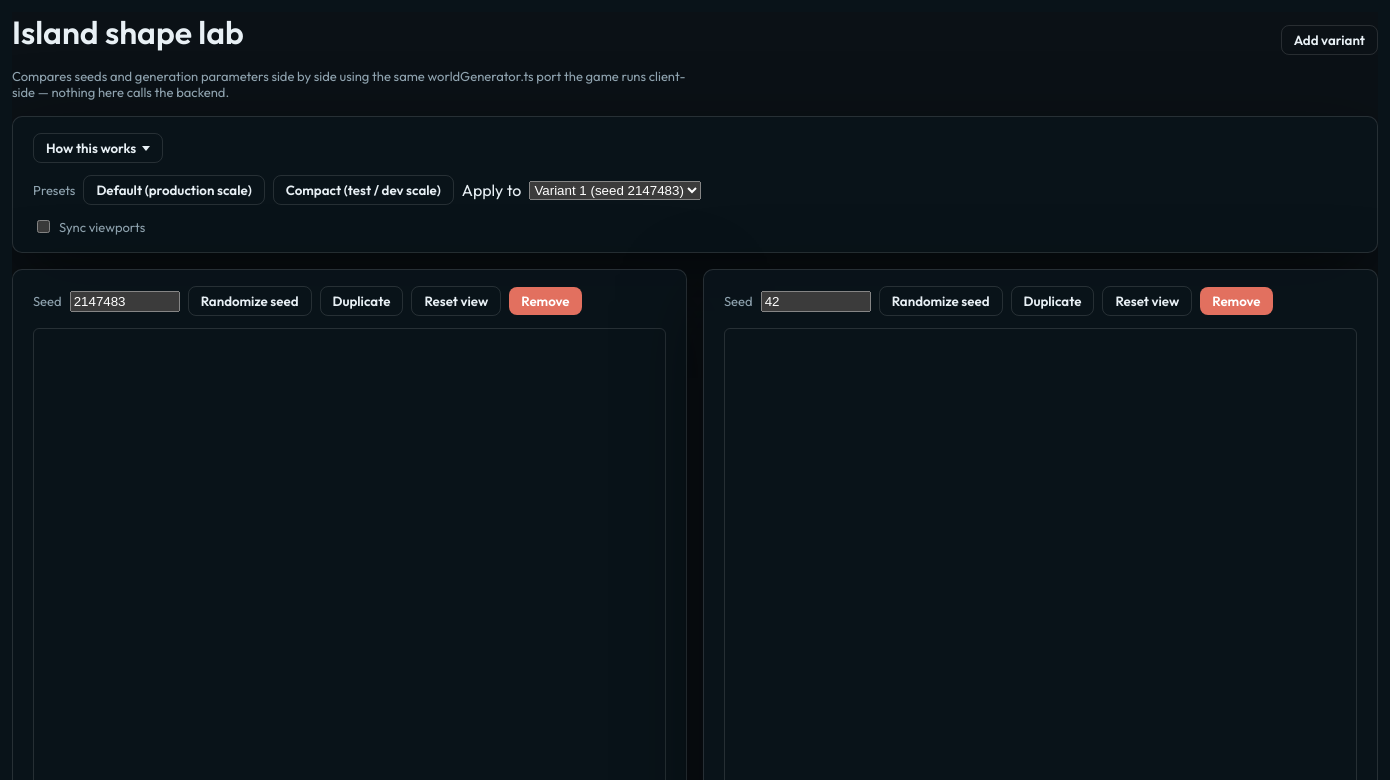
it: AdminIslandLabView › randomizing a seed changes its value and redraws
Click the 1st button with test id "randomize-seed" at (250, 301), box [188,286,312,316]
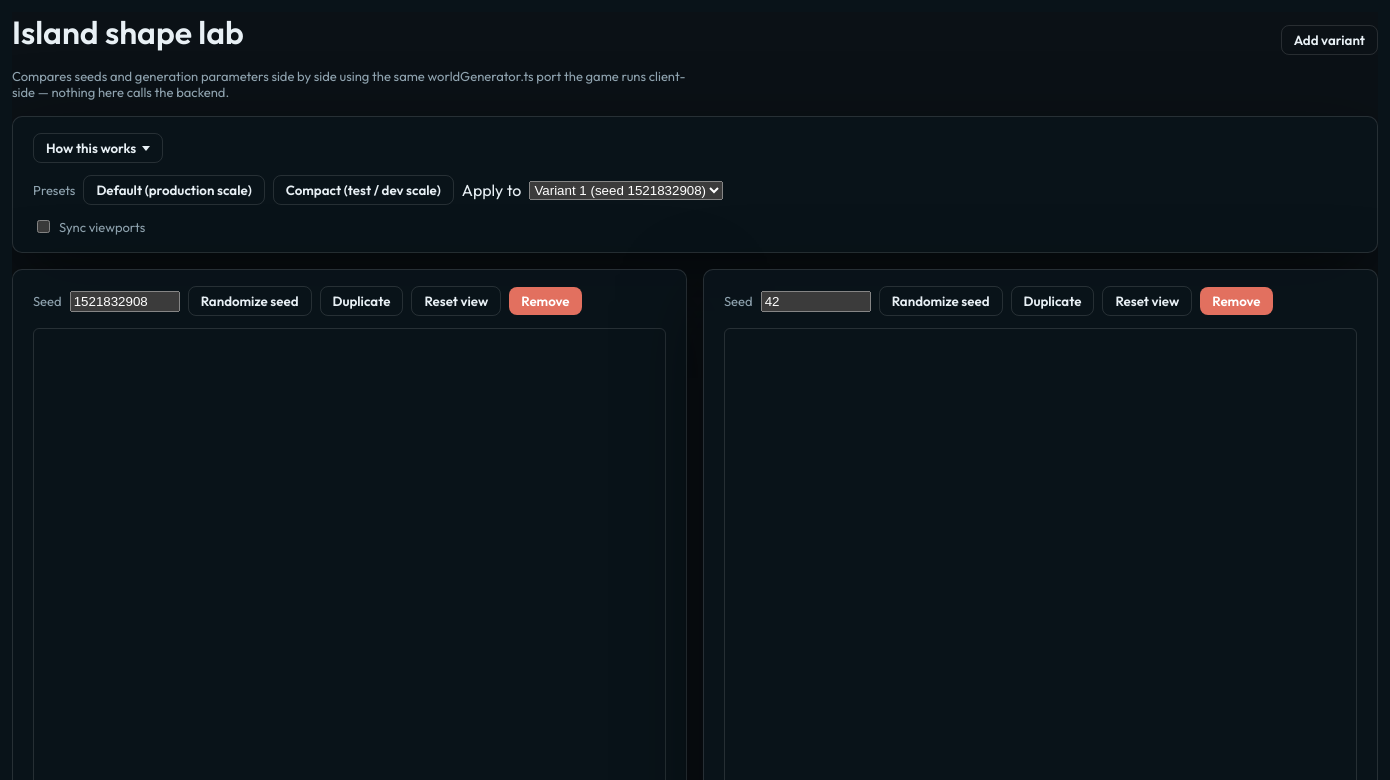
Result: the 1st number field labelled "Seed" does not hold "2147483" at [70,290,180,312]
